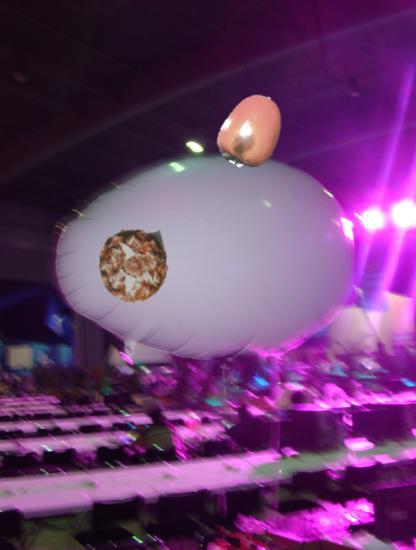Kaki: (214, 93, 291, 170)
Pineapple: (95, 228, 171, 304)
